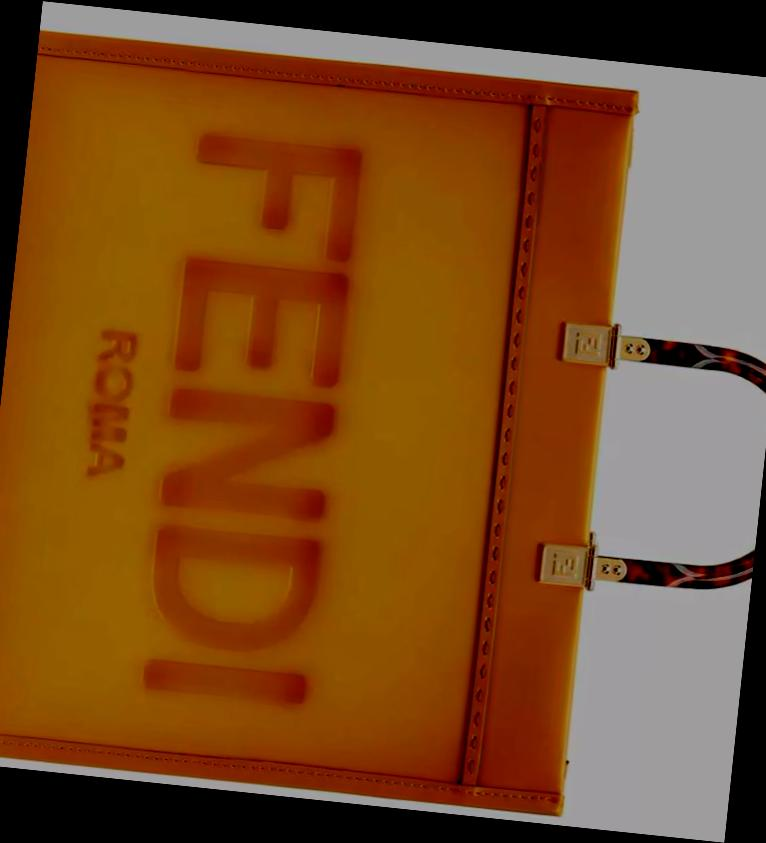FENDI: (136, 128, 366, 710)
